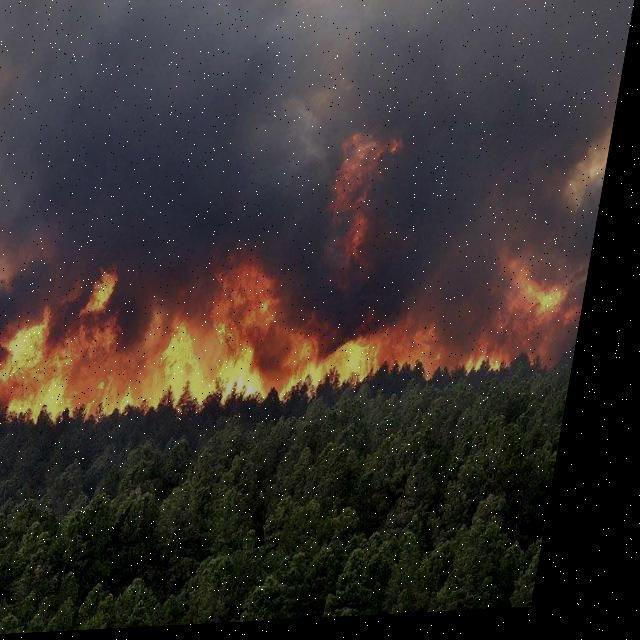Fire: (0, 240, 487, 432), (480, 240, 590, 386)
